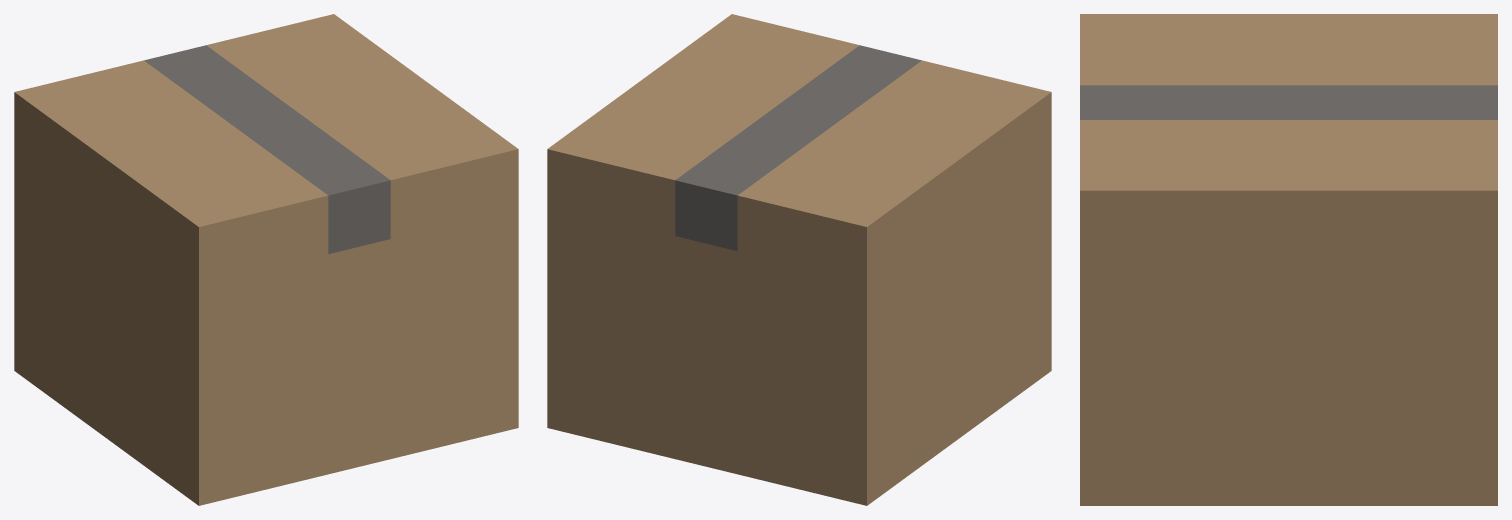
Rendered from Box Medium.glb.
The picture shows the model from 3 angles, left to right: view 1: azimuth 30°, elevation 25°; view 2: azimuth 150°, elevation 25°; view 3: azimuth 270°, elevation 25°; orthographic projection. The views are drawn at different scales.
Parts seen in each view (by area): view 1: Cube; view 2: Cube; view 3: Cube.
Boxes of the visible parts, bbox=[...] form: Cube: bbox=[14, 14, 518, 505]; Cube: bbox=[547, 14, 1051, 505]; Cube: bbox=[1080, 14, 1497, 505].
Bounding box in the file's own units: 0.6 × 0.5 × 0.6.
